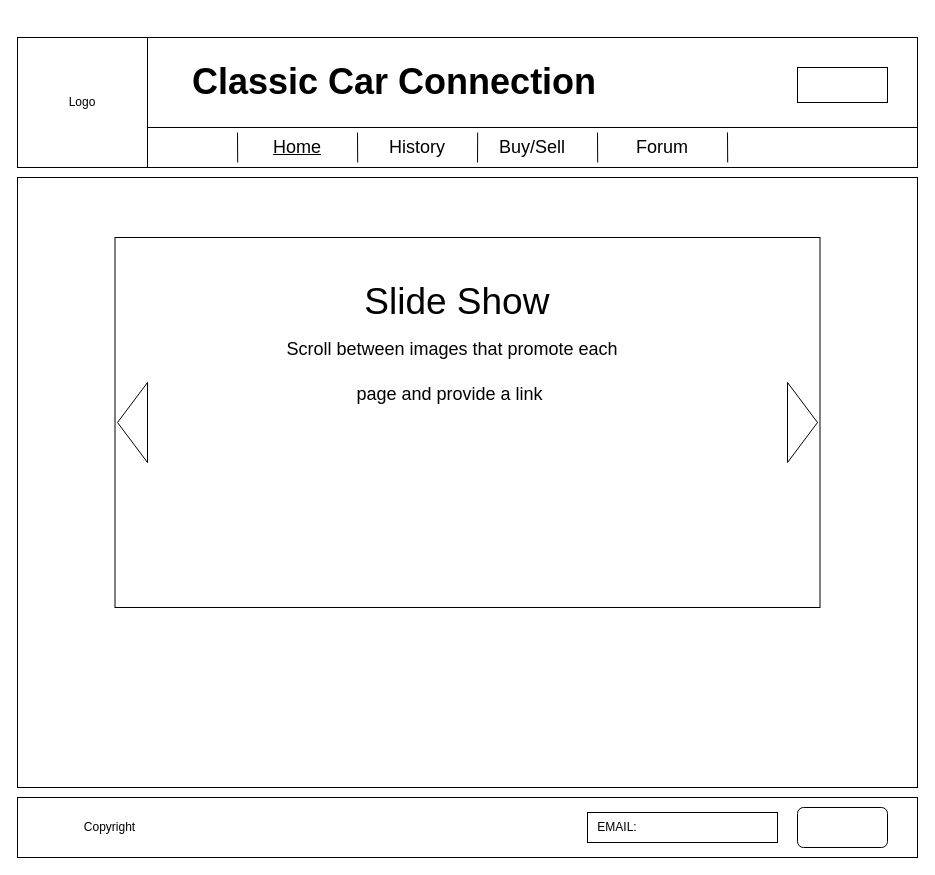
The diagram is 935 pixels wide and 875 high, and some of its shapes have lost their labels. The centre of each missing label's shape, as x and y in pixels:
"Log-in" belongs at point (842, 84).
"Sign up" belongs at point (842, 827).
